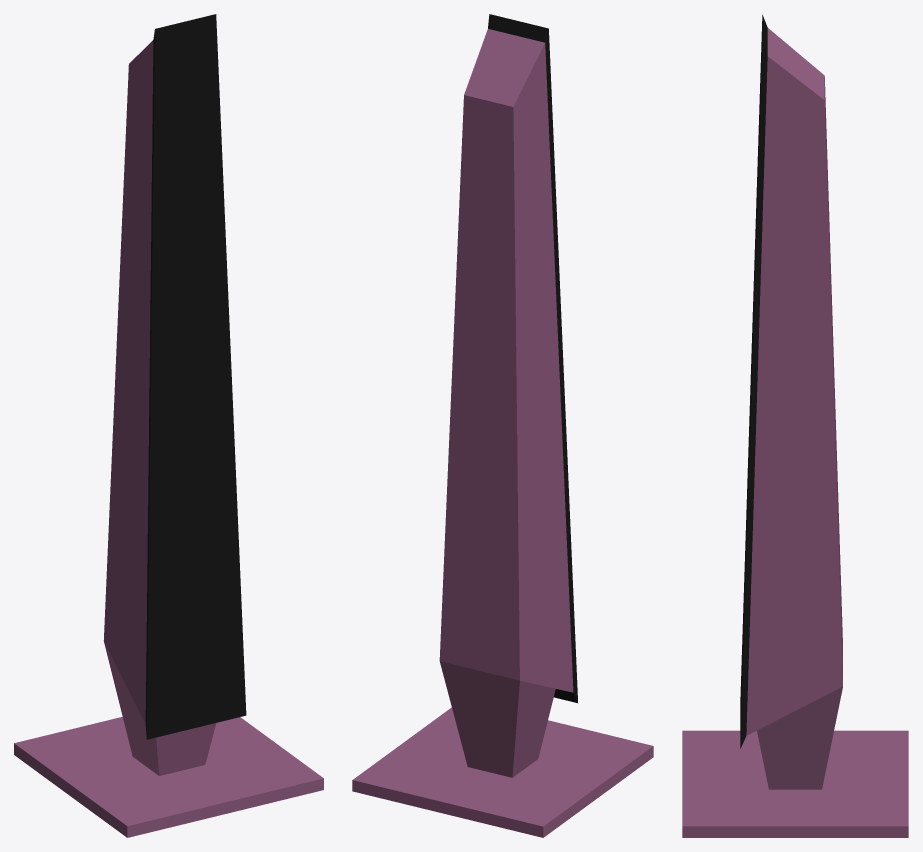
The model's file is Bond.fbx.
The picture shows the model from 3 angles, left to right: view 1: azimuth 30°, elevation 25°; view 2: azimuth 150°, elevation 25°; view 3: azimuth 270°, elevation 25°; orthographic projection. The views are drawn at different scales.
Visible parts, largest first — view 1: Cube; view 2: Cube; view 3: Cube.
Boxes of the visible parts, bbox=[...] form: Cube: bbox=[14, 14, 323, 837]; Cube: bbox=[352, 14, 653, 837]; Cube: bbox=[682, 14, 908, 837].
Size of the model in its own units: 113 by 418 by 113.
